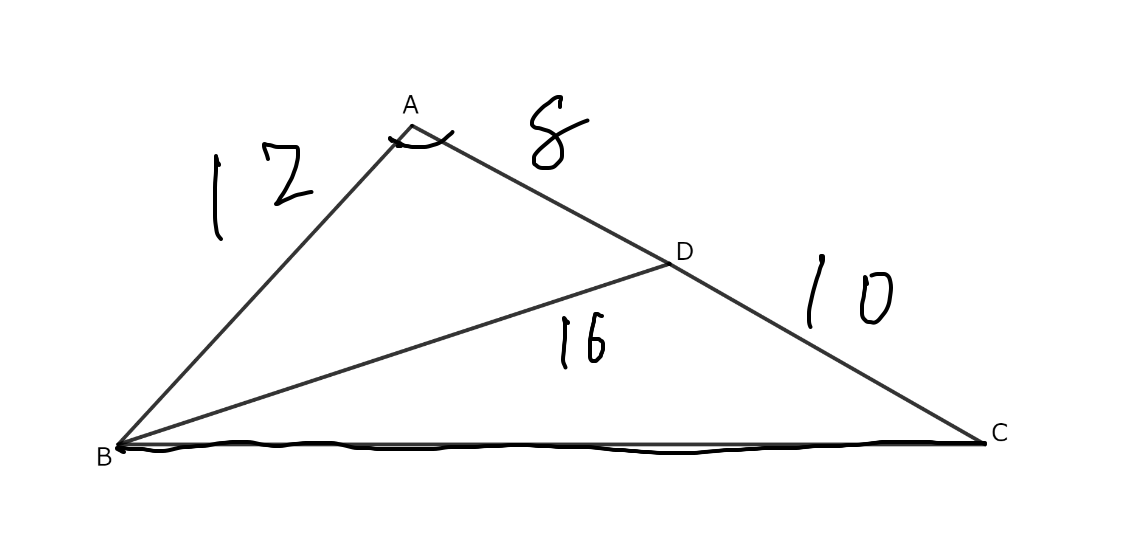Angle_Scurve: (384, 126, 457, 155)
